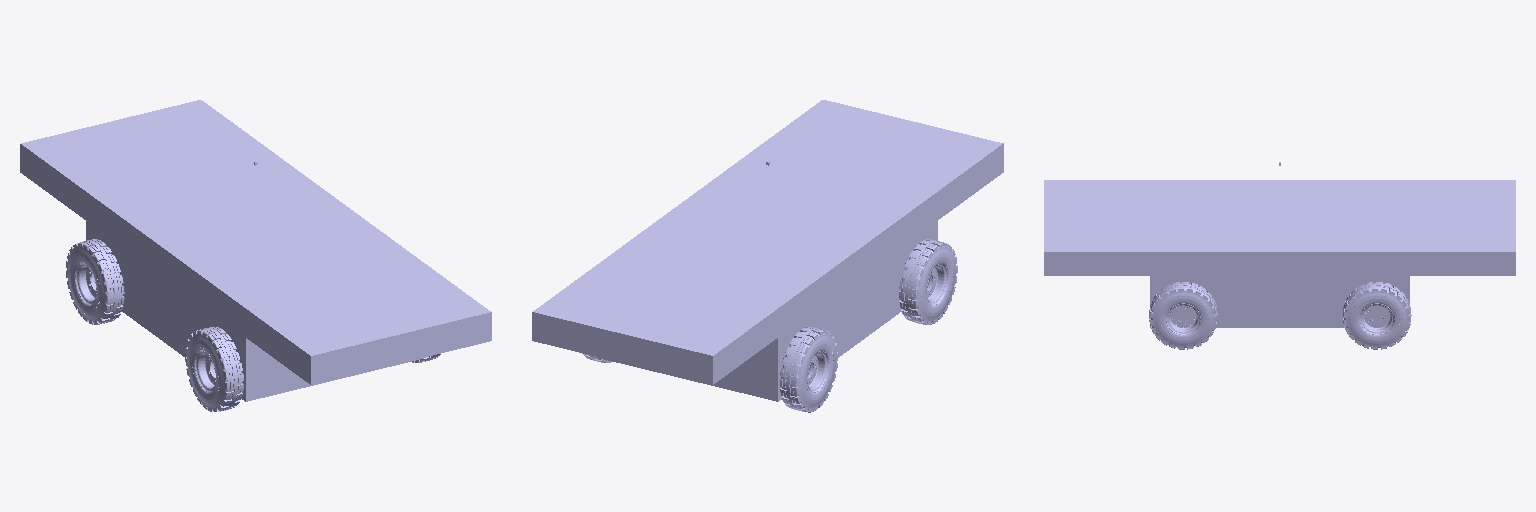
The robot description file, URDF, robot "Mobile_Leveling_Platform_V2":
<?xml version="1.0" encoding="utf-8"?>
<!-- This URDF was automatically created by SolidWorks to URDF Exporter! Originally created by [author] ([email redacted]) 
     Commit Version: 1.5.1-0-g916b5db  Build Version: 1.5.7152.31018
     For more information, please see http://wiki.ros.org/sw_urdf_exporter -->

<robot name="Mobile_Leveling_Platform_V2" xmlns:xacro="http://ros.org/wiki/xacro">


<!--Mobile_Robot control
  <gazebo>
    <plugin name="skid_steer_drive_controller" filename="libgazebo_ros_skid_steer_drive.so">
      <updateRate>10</updateRate>
      <robotNamespace>/</robotNamespace>
      <leftFrontJoint>front_L_motor_rev_joint</leftFrontJoint>
      <rightFrontJoint>front_R_motor_rev_joint</rightFrontJoint>
      <leftRearJoint>rear_L_motor_rev_joint</leftRearJoint>
      <rightRearJoint>rear_R_motor_rev_joint</rightRearJoint>
      <wheelSeparation>0.67</wheelSeparation>
      <wheelDiameter>0.264453</wheelDiameter>
      <robotBaseFrame>base_link</robotBaseFrame>
      <torque>100</torque>
      <commandTopic>twist2gazebo</commandTopic>
      <broadcastTF>true</broadcastTF>
    </plugin>
  </gazebo>-->

<!--Leveling_Platform control
  <gazebo>
    <plugin name="gazebo_ros_control" filename="libgazebo_ros_control.so">
      <robotNamespace>platform/MLP</robotNamespace>
      <robotSimType>gazebo_ros_control/DefaultRobotHWSim</robotSimType>
    </plugin>
  </gazebo>

  <transmission name="trans1">
     <type>transmission_interface/SimpleTransmission</type>
     <joint name="front_motor_rev_joint">
       <hardwareInterface>hardware_interface/PositionJointInterface</hardwareInterface>
     </joint>
     <actuator name="front_motor_rev_motor">
       <mechanicalReduction>50</mechanicalReduction>
       <hardwareInterface>hardware_interface/PositionJointInterface</hardwareInterface>
     </actuator>
  </transmission>

  <transmission name="trans2">
     <type>transmission_interface/SimpleTransmission</type>
     <joint name="upper_motor_rev_joint">
       <hardwareInterface>hardware_interface/PositionJointInterface</hardwareInterface>
     </joint>
     <actuator name="upper_motor_rev_motor">
       <mechanicalReduction>50</mechanicalReduction>
       <hardwareInterface>hardware_interface/PositionJointInterface</hardwareInterface>
     </actuator>
  </transmission>-->

<!--IMU Plugin-->

  <gazebo reference="imu_link_base">
    <gravity>true</gravity>
    <sensor name="imu_sensor" type="imu">
      <always_on>true</always_on>
      <update_rate>100</update_rate>
      <visualize>true</visualize>
      <topic>__default_topic__</topic>
      <plugin filename="libgazebo_ros_imu_sensor.so" name="imu_plugin">
        <topicName>imu_base</topicName>
        <bodyName>imu_link_base</bodyName>
        <updateRateHZ>10.0</updateRateHZ>
        <gaussianNoise>0.0</gaussianNoise>
        <xyzOffset>0 0 0</xyzOffset>
        <rpyOffset>0 0 0</rpyOffset>
        <frameName>imu_link_base</frameName>
        <initialOrientationAsReference>false</initialOrientationAsReference>
      </plugin>
      <pose>0 0 0 0 0 0</pose>
    </sensor>
  </gazebo>

<!-- GPS -->
  <gazebo>
    <plugin name="GazeboRosGps" filename="libhector_gazebo_ros_gps.so">
        <updateRate>100</updateRate>
        <robotNamespace>platform/MLP</robotNamespace>
        <bodyName>GPS_link</bodyName>
        <frameId>default_empty</frameId>
        <topicName>fix</topicName>
	<velocityTopicName>fix_velocity</velocityTopicName>
	<referenceLatitude>36.146545</referenceLatitude>
	<referenceLongitude>128.388039</referenceLongitude>
	<referenceHeading>0</referenceHeading>
	<referenceAltitude>0</referenceAltitude>
    	<status>STATIS_FIX</status>
	<service>SERVICE_GPS	</service>
	<offset>0 0 0 0 0 0</offset>
	<drift>0</drift>
	<driftFrequency>100</driftFrequency>
	<gaussianNoise>0</gaussianNoise>
	<velocityOffset>0</velocityOffset>
	<velocityDrift>0</velocityDrift>
	<velocityDriftFrequency>100</velocityDriftFrequency>
	<velocityGaussianNoise>0</velocityGaussianNoise>
    </plugin>
  </gazebo>

<!--link color-->
  <gazebo reference="beacon_link">
      <material>Gazebo/Green</material> 
  </gazebo>

  <gazebo reference="GPS_link">
      <material>Gazebo/Black</material> 
  </gazebo>
<!-- base_link mass :15.686-->

  <link
    name="base_link">
    <inertial>
      <origin
        xyz="0 0 0"
        rpy="0 0 0" />
      <mass
        value="0.0001" />
      <inertia
        ixx="3.1779"
        ixy="0"
        ixz="0"
        iyy="3.6754"
        iyz="0"
        izz="4.4975" />
    </inertial>
    <visual>
      <origin
        xyz="0 0 0"
        rpy="0 0 0" />
      <geometry>
	<box size="0.65 0.998 0.222"/>
      </geometry>
      <material
        name="">
        <color
          rgba="0.82353 0.82353 1 1" />
      </material>
    </visual>
    <collision>
      <origin
        xyz="0 0 0"
        rpy="0 0 0" />
      <geometry>
	<box size="0.65 0.998 0.222"/>
      </geometry>
    </collision>
  </link>

  <joint
    name="imu_base_joint"
    type="fixed">
    <origin
      xyz="0 0 0.20249"
      rpy="0 0 0" />
    <parent
      link="base_link" />
    <child
      link="imu_link_base" />
    <axis
      xyz="0 0 0" />
  </joint>

  <link name ="imu_link_base">
    <inertial>
      <origin
        xyz="0 0 0.23" 
        rpy="0 0 0" />
      <mass
        value="0.1" />
      <inertia
        ixx="0.000001667"
        ixy="0"
        ixz="0"
        iyy="0.000001667"
        iyz="0"
        izz="0.000001667" />
    </inertial>
    <visual>
      <origin
        xyz="0 0 0.23"
        rpy="0 0 0" />
      <geometry>
	<box size = "0.01 0.01 0.01"/>
      </geometry>
      <material
        name="">
        <color
          rgba="0.82353 0.82353 1 1" />
      </material>
    </visual>
    <collision>
      <origin
        xyz="0 0 0.23"
        rpy="0 0 0" />
      <geometry>
	<box size = "0.01 0.01 0.01"/>
      </geometry>
    </collision>
  </link>
  <joint
    name="front_L_motor_rev_joint"
    type="continuous">
    <origin
      xyz="0.363 -0.3709 -0.041791"
      rpy="0 -1.5708 0" />
    <parent
      link="base_link" />
    <child
      link="front_L_tire_link" />
    <axis
      xyz="0 0 1" />
  </joint>
  <link
    name="front_L_tire_link">
    <inertial>
      <origin
        xyz="-3.7896E-07 2.773E-06 2.1792E-08"
        rpy="0 1.5708 0" />
      <mass
        value="2.9551" />
      <inertia
        ixx="0.029016"
        ixy="0"
        ixz="0"
        iyy="0.015583"
        iyz="0"
        izz="0.015587" />
    </inertial>
    <visual>
      <origin
        xyz="0 0 0"
        rpy="0 1.5708 0" />
      <geometry>
        <mesh
          filename="package://Mobile_Leveling_Platform_V2/meshes/front_L_tire_link.STL" />
      </geometry>
      <material
        name="">
        <color
          rgba="0.82353 0.82353 1 1" />
      </material>
    </visual>
    <collision>
      <origin
        xyz="0 0 0"
        rpy="0 0 0" />
      <geometry>
        <cylinder length = "0.0725" radius = "0.1322765"/>
      </geometry>
    </collision>
  </link>

  <joint
    name="front_R_motor_rev_joint"
    type="continuous">
    <origin
      xyz="-0.363 -0.3709 -0.041791"
      rpy="3.1416 -1.5708 0" />
    <parent
      link="base_link" />
    <child
      link="front_R_tire_link" />
    <axis
      xyz="0 0 -1" />
  </joint>
  <link
    name="front_R_tire_link">
    <inertial>
      <origin
        xyz="-3.786E-07 2.7731E-06 2.2371E-08"
        rpy="0 1.5708 0" />
      <mass
        value="2.9551" />
      <inertia
        ixx="0.029016"
        ixy="0"
        ixz="0"
        iyy="0.015583"
        iyz="0"
        izz="0.015587" />
    </inertial>
    <visual>
      <origin
        xyz="0 0 0"
        rpy="0 1.5708 0" />
      <geometry>
        <mesh
          filename="package://Mobile_Leveling_Platform_V2/meshes/front_R_tire_link.STL" />
      </geometry>
      <material
        name="">
        <color
          rgba="0.82353 0.82353 1 1" />
      </material>
    </visual>
    <collision>
      <origin
        xyz="0 0 0"
        rpy="0 0 0" />
      <geometry>
        <cylinder length = "0.0725" radius = "0.1322765"/>
      </geometry>
    </collision>
  </link>
  <joint
    name="rear_L_motor_rev_joint"
    type="continuous">
    <origin
      xyz="0.363 0.3731 -0.041791"
      rpy="0 -1.5708 0" />
    <parent
      link="base_link" />
    <child
      link="rear_L_tire_link" />
    <axis
      xyz="0 0 1" />
  </joint>
  <link
    name="rear_L_tire_link">
    <inertial>
      <origin
        xyz="-3.7891E-07 2.7734E-06 2.19E-08"
        rpy="0 1.5708 0" />
      <mass
        value="2.9551" />
      <inertia
        ixx="0.029016"
        ixy="0"
        ixz="0"
        iyy="0.015583"
        iyz="0"
        izz="0.015587" />
    </inertial>
    <visual>
      <origin
        xyz="0 0 0"
        rpy="0 1.5708 0" />
      <geometry>
        <mesh
          filename="package://Mobile_Leveling_Platform_V2/meshes/rear_L_tire_link.STL" />
      </geometry>
      <material
        name="">
        <color
          rgba="0.82353 0.82353 1 1" />
      </material>
    </visual>
    <collision>
      <origin
        xyz="0 0 0"
        rpy="0 0 0" />
      <geometry>
        <cylinder length = "0.0725" radius = "0.1322765"/>
      </geometry>
    </collision>
  </link>
  <joint
    name="rear_R_motor_rev_joint"
    type="continuous">
    <origin
      xyz="-0.363 0.3731 -0.041791"
      rpy="3.1416 -1.5708 0" />
    <parent
      link="base_link" />
    <child
      link="rear_R_tire_link" />
    <axis
      xyz="0 0 -1" />
  </joint>
  <link
    name="rear_R_tire_link">
    <inertial>
      <origin
        xyz="-3.7891E-07 2.7731E-06 2.1853E-08"
        rpy="0 1.5708 0" />
      <mass
        value="2.9551" />
      <inertia
        ixx="0.029016"
        ixy="0"
        ixz="0"
        iyy="0.015583"
        iyz="0"
        izz="0.015587" />
    </inertial>
    <visual>
      <origin
        xyz="0 0 0"
        rpy="0 1.5708 0" />
      <geometry>
        <mesh
          filename="package://Mobile_Leveling_Platform_V2/meshes/rear_R_tire_link.STL" />
      </geometry>
      <material
        name="">
        <color
          rgba="0.82353 0.82353 1 1" />
      </material>
    </visual>
    <collision>
      <origin
        xyz="0 0 0"
        rpy="0 0 0" />
      <geometry>
        <cylinder length = "0.0725" radius = "0.1322765"/>
      </geometry>
    </collision>
  </link>
  <link
    name="mating_link">
    <inertial>
      <origin
        xyz="0 0 -0.041642"
        rpy="0 0 0" />
      <mass
        value="15" /> <!--mating_link_ mass:14.754-->
      <inertia
        ixx="4.107625"
        ixy="0"
        ixz="0"
        iyy="0.5245"
        iyz="0"
        izz="4.607125" />
    </inertial>
    <visual>
      <origin
        xyz="0 0 -0.041642" 
        rpy="0 0 0" />
      <geometry>
	<box size="0.65 1.810 0.1"/>
      </geometry>
      <material
        name="">
        <color
          rgba="0.82353 0.82353 1 1" />
      </material>
    </visual>
    <collision>
      <origin
        xyz="0 0 -0.041642" 
        rpy="0 0 0" />
      <geometry>
	<box size="0.65 1.810 0.1"/>
      </geometry>
    </collision>
  </link>
  <joint
    name="mating_joint"
    type="fixed">
    <origin
      xyz="0 0 0.20249"
      rpy="0 0 0" />
    <parent
      link="base_link" />
    <child
      link="mating_link" />
    <axis
      xyz="0 0 0" />
  </joint>






</robot>

--- What the picture shows (computed from the rendered views, not written in the file) ---
Views: 3 orthographic renders of the robot side by side, from view 1: azimuth 30°, elevation 25°; view 2: azimuth 150°, elevation 25°; view 3: azimuth 270°, elevation 25°.
Robot: Mobile_Leveling_Platform_V2 — 7 links, 6 joints (4 continuous, 2 fixed); root link base_link; default pose: all joints at 0.
Links seen in each view (by area): view 1: mating_link, base_link, front_R_tire_link, rear_R_tire_link; view 2: mating_link, base_link, front_R_tire_link, rear_R_tire_link; view 3: mating_link, base_link, front_L_tire_link, rear_L_tire_link.
Boxes of the visible links, x1=… form: mating_link: x1=20, y1=100, x2=491, y2=384; base_link: x1=86, y1=221, x2=425, y2=401; front_R_tire_link: x1=185, y1=327, x2=243, y2=411; rear_R_tire_link: x1=66, y1=239, x2=124, y2=324; mating_link: x1=532, y1=100, x2=1003, y2=384; base_link: x1=598, y1=221, x2=937, y2=401; front_R_tire_link: x1=899, y1=239, x2=957, y2=324; rear_R_tire_link: x1=780, y1=327, x2=837, y2=412; mating_link: x1=1044, y1=180, x2=1515, y2=275; base_link: x1=1150, y1=276, x2=1409, y2=327; front_L_tire_link: x1=1149, y1=282, x2=1217, y2=349; rear_L_tire_link: x1=1343, y1=282, x2=1411, y2=349.
Size in the robot's own frame: 0.799 by 1.81 by 0.6115 metres.
Meshes: 4 distinct files referenced, 4 mesh visuals loaded (4 binary STL).